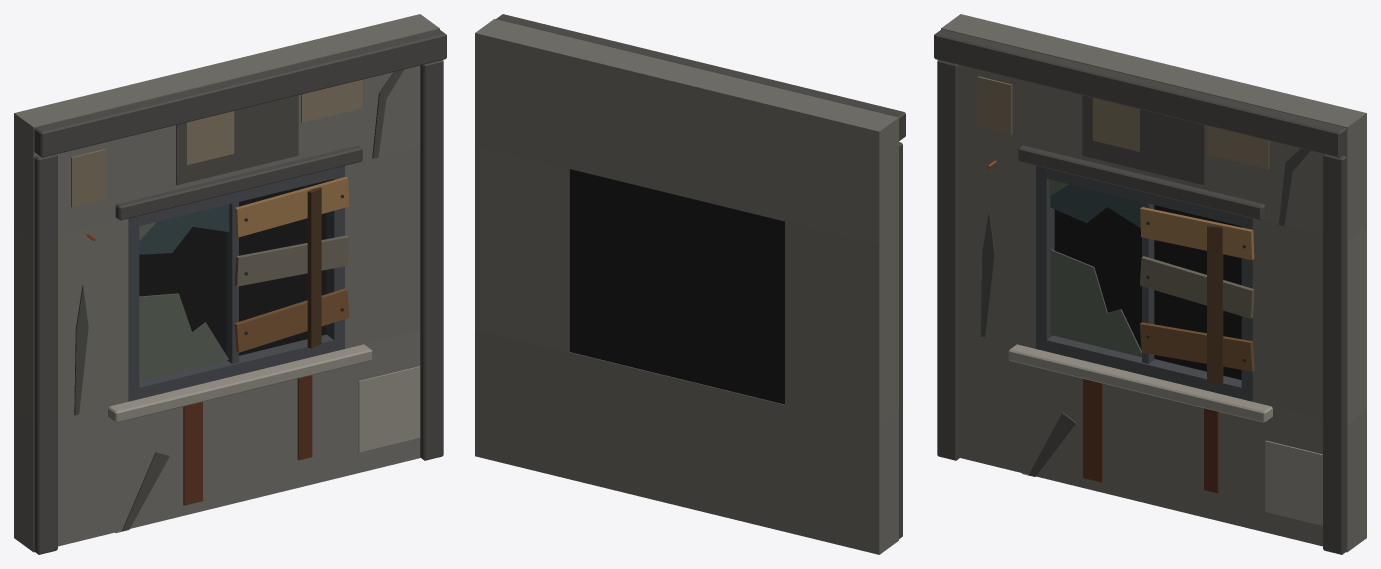
The model's file is bld_window_bay.fbx.
The picture shows the model from 3 angles, left to right: view 1: azimuth 30°, elevation 25°; view 2: azimuth 150°, elevation 25°; view 3: azimuth 330°, elevation 25°; orthographic projection.
Visible parts, largest first — view 1: bld_window_bay; view 2: bld_window_bay; view 3: bld_window_bay.
Boxes of the visible parts, box(x1,y1,x2,y2) form: bld_window_bay: box(14, 14, 446, 554); bld_window_bay: box(475, 14, 905, 554); bld_window_bay: box(934, 14, 1366, 554).
Size of the model in its own units: 3 by 3 by 0.35.
